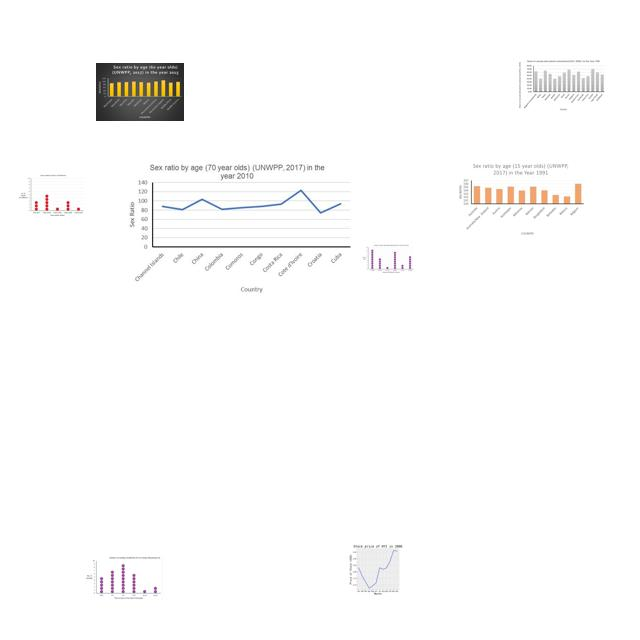Graph: (121, 161, 353, 295), (456, 161, 585, 236), (96, 63, 184, 121), (516, 59, 606, 113), (341, 542, 413, 596), (84, 555, 163, 601), (17, 173, 85, 218), (361, 244, 415, 274)
